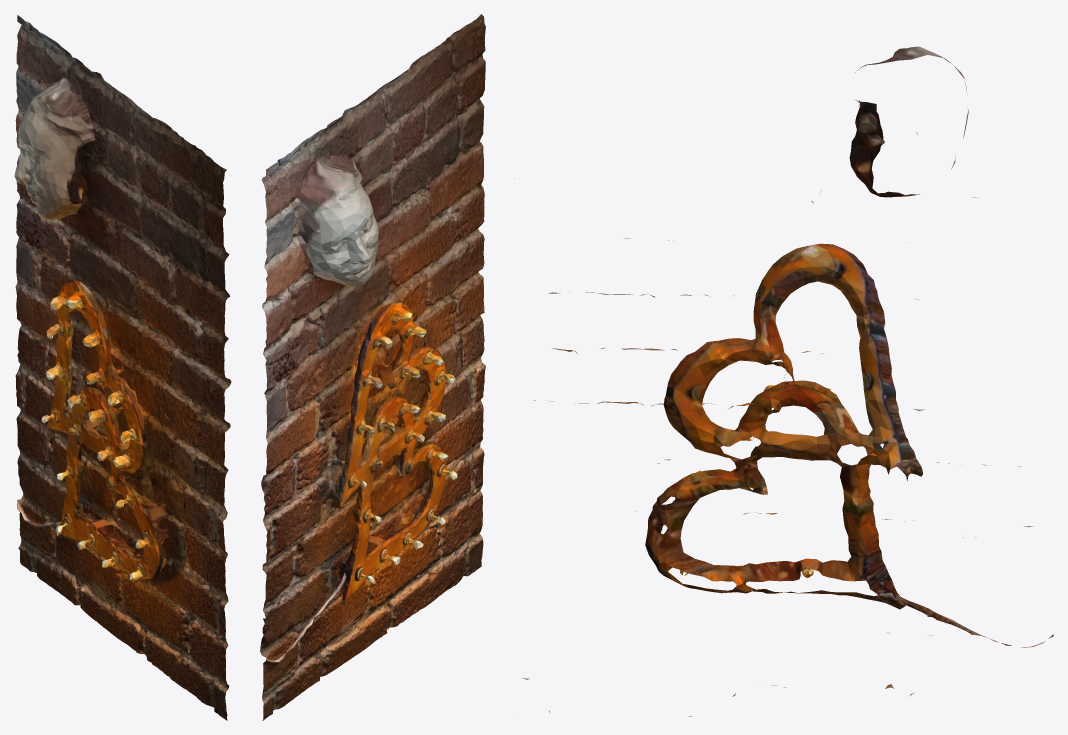
The model's file is thing.glb.
3 views of the same model, side by side, from view 1: azimuth 30°, elevation 25°; view 2: azimuth 150°, elevation 25°; view 3: azimuth 270°, elevation 25° (orthographic). The views are drawn at different scales.
Size of the model in its own units: 0.1164 by 1.02 by 0.7109.
Materials: 1 (1 with a texture image).
